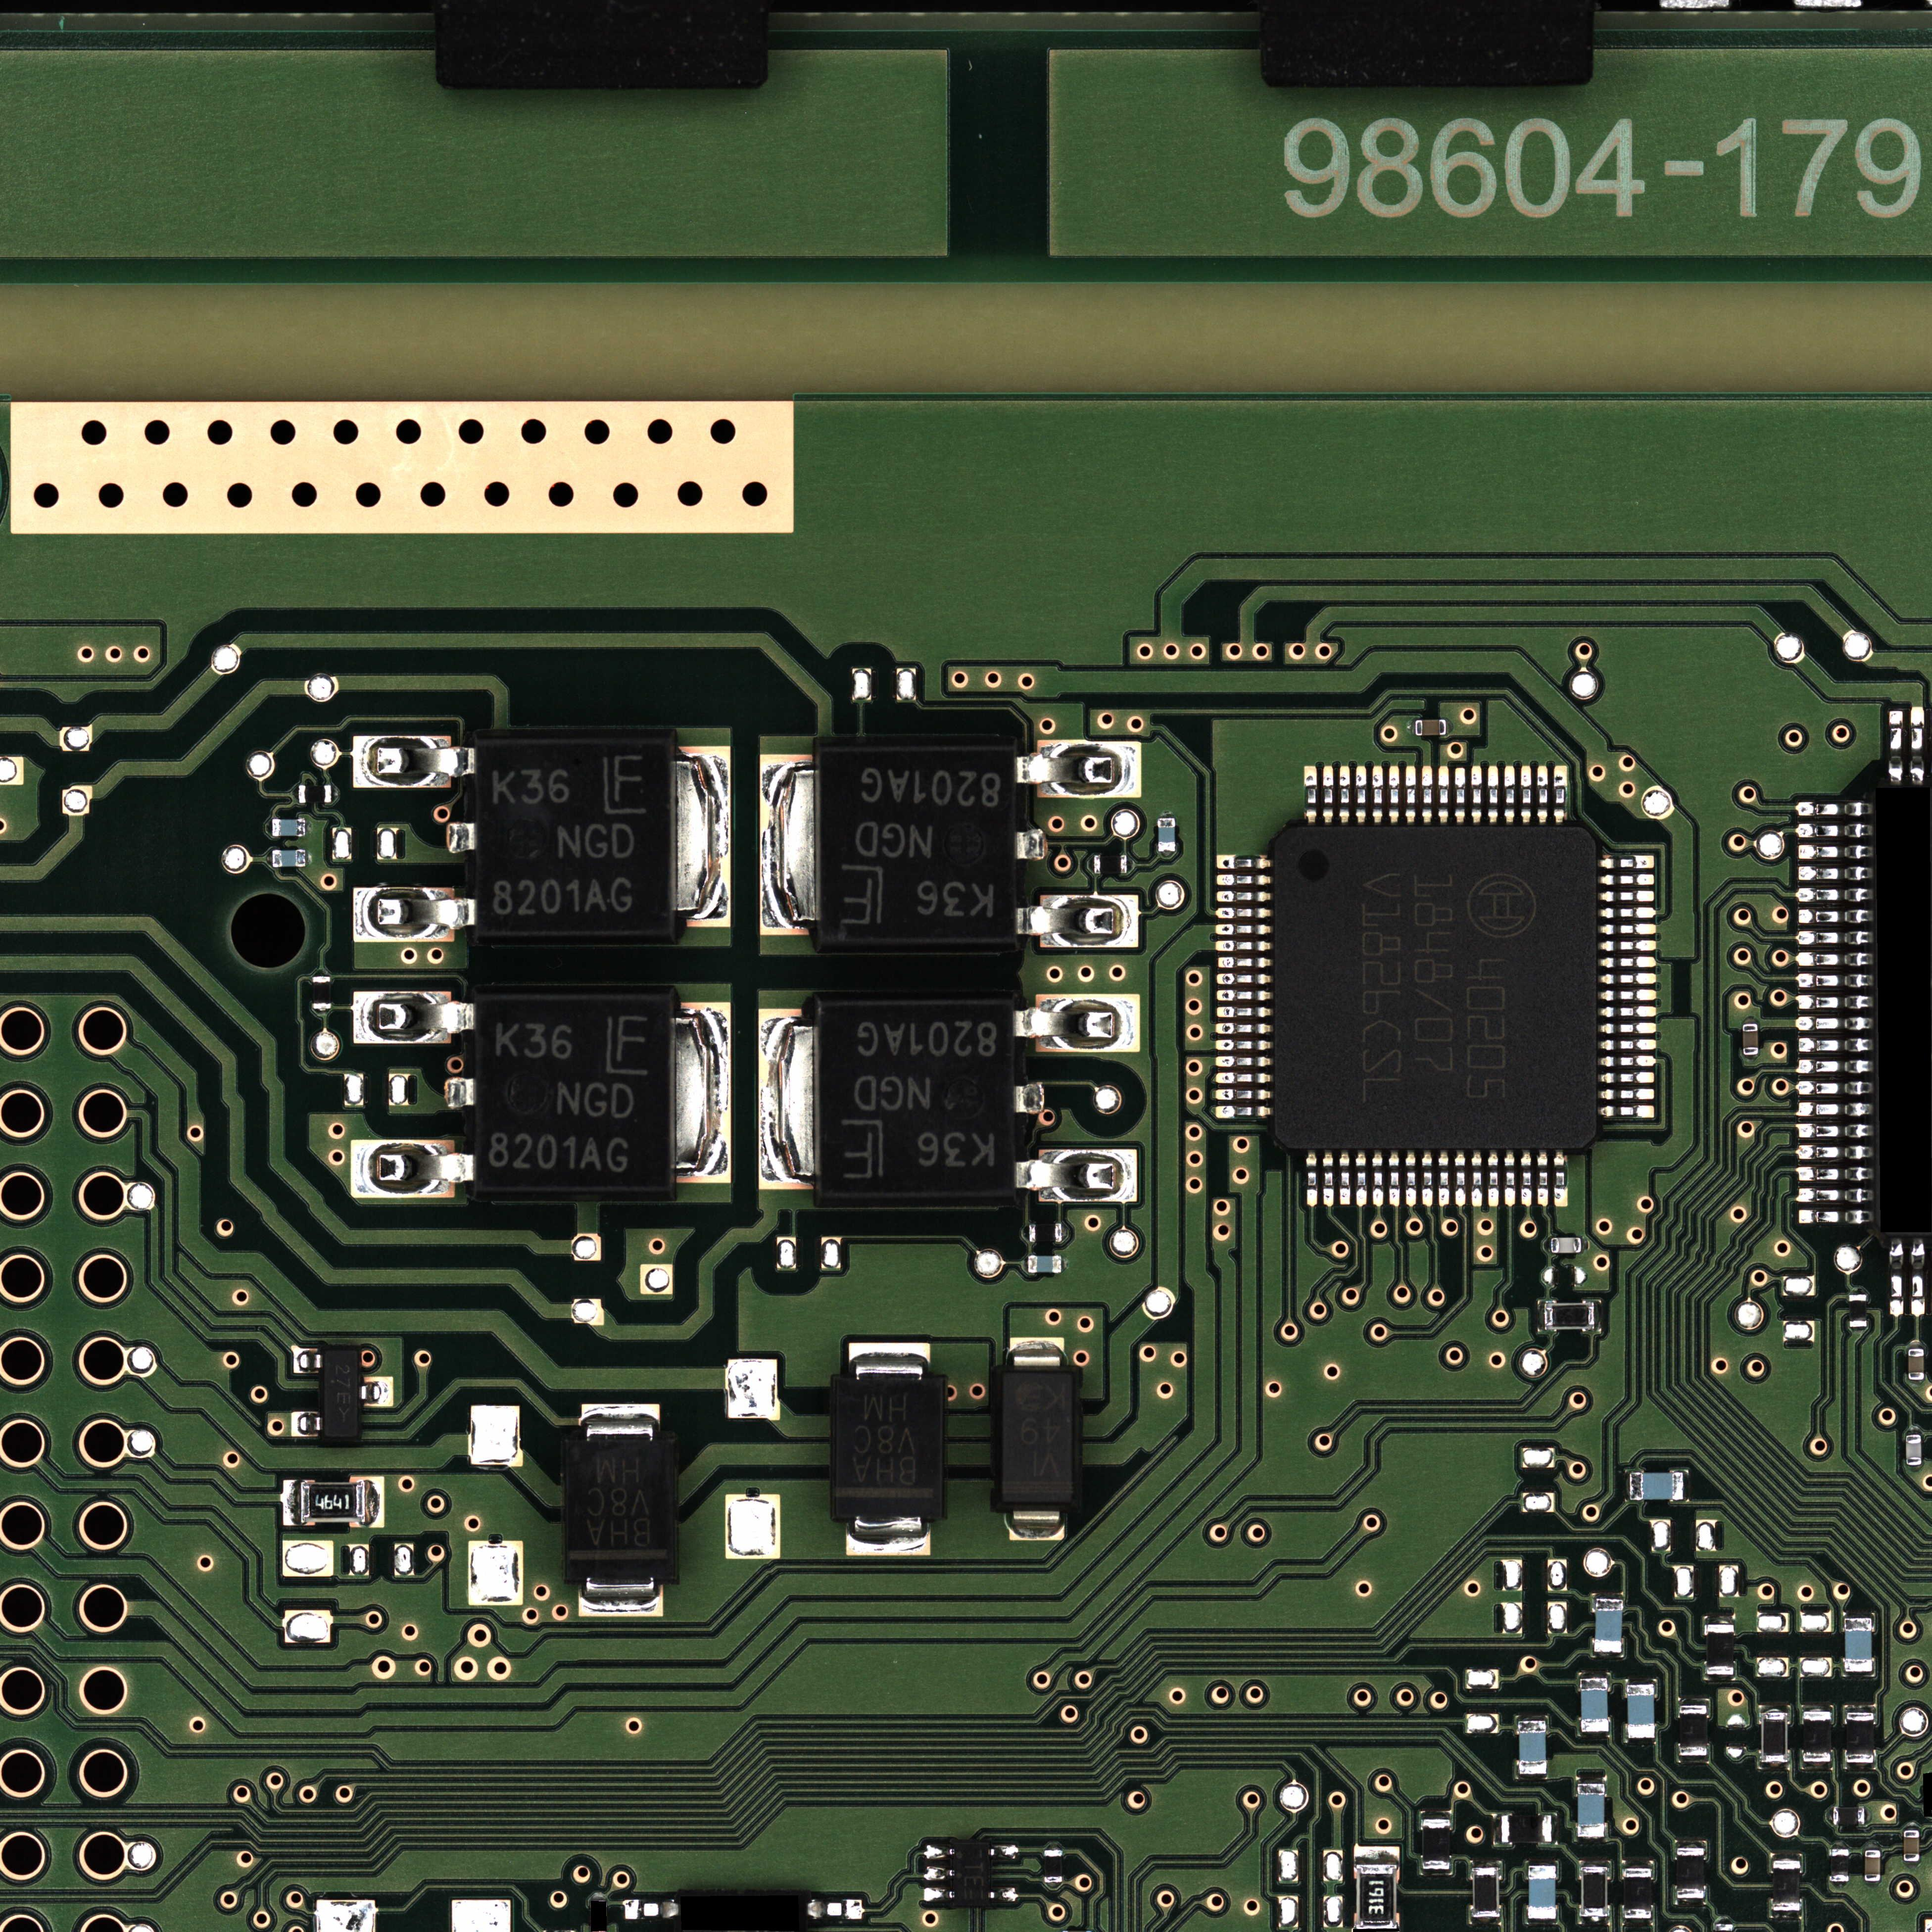Package: (1272, 824, 1599, 1152), (816, 745, 1016, 945), (474, 738, 669, 938), (476, 998, 671, 1192), (819, 1003, 1014, 1196), (833, 1376, 943, 1518), (566, 1438, 674, 1580), (1001, 1373, 1072, 1504), (322, 1348, 359, 1438), (301, 1483, 364, 1523), (1357, 1865, 1396, 1928), (954, 1842, 989, 1904), (1518, 1720, 1546, 1775), (1594, 1599, 1622, 1652), (1629, 1472, 1683, 1500), (1580, 1679, 1608, 1732), (1845, 1617, 1872, 1672), (1422, 1819, 1451, 1870), (1803, 1711, 1831, 1762), (1628, 1684, 1654, 1737), (1578, 1783, 1605, 1836), (1773, 1861, 1801, 1911), (1502, 1815, 1552, 1844), (1679, 1706, 1707, 1755), (1706, 1624, 1734, 1674), (1529, 1867, 1555, 1918), (1677, 1847, 1704, 1898), (1847, 1713, 1874, 1762), (1624, 1868, 1651, 1918), (1545, 1304, 1594, 1329), (1762, 1713, 1787, 1762), (1582, 1867, 1606, 1916), (1474, 1868, 1499, 1918), (1833, 1806, 1865, 1826), (272, 819, 306, 837), (1159, 817, 1177, 851), (272, 849, 306, 867), (1093, 856, 1127, 874), (1044, 1851, 1062, 1882), (299, 786, 331, 803), (1849, 1295, 1867, 1327), (1030, 1224, 1062, 1242), (1831, 1849, 1849, 1881), (313, 977, 331, 1008), (1028, 1256, 1062, 1272), (1904, 1829, 1920, 1861), (1550, 1237, 1582, 1253), (1909, 1348, 1925, 1380), (1415, 720, 1445, 736), (1905, 1435, 1921, 1465), (1865, 1851, 1881, 1881), (1743, 1024, 1759, 1054)
Solder: (757, 1008, 819, 1189), (669, 747, 731, 925), (672, 1003, 731, 1180), (759, 754, 816, 934), (1014, 993, 1139, 1053), (350, 1139, 474, 1198), (1017, 740, 1141, 798), (1017, 893, 1139, 948), (354, 886, 474, 941), (352, 734, 474, 787), (352, 991, 472, 1044), (1016, 1150, 1136, 1203), (846, 1518, 931, 1555), (579, 1582, 663, 1617), (849, 1341, 931, 1375), (580, 1403, 660, 1435), (1008, 1506, 1065, 1541), (1008, 1338, 1065, 1373), (1792, 842, 1874, 862), (1794, 823, 1875, 840), (1792, 886, 1874, 904), (1792, 909, 1874, 927), (1792, 929, 1874, 947), (1792, 952, 1874, 970), (1792, 973, 1874, 991), (1792, 993, 1874, 1010), (1792, 1014, 1874, 1031), (1792, 1058, 1874, 1076), (1792, 1079, 1874, 1097), (1794, 1123, 1875, 1141), (1794, 1145, 1875, 1162), (1794, 1208, 1875, 1226), (1794, 800, 1874, 817), (1794, 865, 1874, 883), (1794, 1037, 1874, 1054), (1794, 1100, 1874, 1118), (1794, 1166, 1874, 1184), (1794, 1187, 1874, 1205), (1909, 1237, 1927, 1316), (1888, 1238, 1905, 1316), (1909, 704, 1925, 786), (805, 1898, 865, 1920), (623, 1898, 681, 1920), (1888, 709, 1904, 784), (361, 1376, 393, 1407), (281, 1479, 301, 1527), (1014, 1083, 1044, 1113), (446, 823, 476, 853), (444, 1077, 474, 1108), (1016, 828, 1044, 860), (1353, 1845, 1399, 1865), (366, 1477, 384, 1527), (1553, 764, 1568, 824), (1215, 855, 1272, 869), (1599, 855, 1654, 869), (1553, 1152, 1568, 1207), (1599, 1039, 1658, 1051), (1599, 1023, 1658, 1035), (1599, 939, 1658, 952), (1304, 766, 1316, 824), (1599, 989, 1658, 1001), (1214, 1072, 1272, 1085), (1214, 1088, 1272, 1100), (1470, 766, 1483, 824), (1520, 766, 1532, 824), (292, 1412, 320, 1437), (294, 1348, 322, 1373), (1215, 1039, 1272, 1051), (1215, 1106, 1272, 1118), (1215, 973, 1272, 985), (1215, 939, 1272, 952), (1215, 1023, 1272, 1035), (1215, 890, 1272, 902), (1215, 989, 1272, 1001), (1599, 874, 1654, 886), (1599, 890, 1654, 902), (1599, 1088, 1654, 1100), (1504, 1152, 1516, 1207), (1599, 1106, 1654, 1118), (1454, 1152, 1467, 1207), (1658, 0, 1730, 9), (1598, 973, 1658, 984), (1537, 764, 1548, 824), (1599, 1056, 1658, 1067), (1599, 957, 1658, 968), (1599, 1007, 1658, 1017), (1389, 766, 1399, 824), (1355, 766, 1366, 824), (1488, 766, 1499, 824), (1422, 766, 1433, 824), (1405, 766, 1415, 824), (1339, 766, 1350, 824), (1373, 766, 1384, 824), (1504, 766, 1514, 824), (1438, 766, 1449, 824), (1323, 766, 1334, 824), (1215, 1056, 1272, 1067), (1599, 924, 1656, 934), (1599, 1072, 1656, 1083), (1215, 874, 1272, 885), (1599, 908, 1656, 918), (1215, 1007, 1272, 1017), (1215, 924, 1272, 934), (1215, 908, 1272, 918), (1454, 768, 1465, 824), (1217, 957, 1272, 968), (1472, 1152, 1483, 1207), (1488, 1152, 1499, 1207), (1405, 1152, 1415, 1207), (1438, 1152, 1449, 1207), (1389, 1152, 1399, 1207), (1537, 1152, 1548, 1207), (1522, 1152, 1532, 1207), (1373, 1152, 1384, 1207), (1323, 1152, 1334, 1207), (1422, 1152, 1433, 1207), (1357, 1152, 1368, 1207), (1307, 1152, 1318, 1207), (1339, 1152, 1350, 1205), (989, 1886, 1017, 1902), (924, 1867, 954, 1881), (925, 1845, 954, 1859), (991, 1844, 1017, 1858), (924, 1888, 954, 1900), (1536, 1300, 1545, 1332), (1704, 1615, 1736, 1624), (1493, 1813, 1502, 1845), (1594, 1300, 1603, 1330), (1421, 1810, 1451, 1819), (1771, 1911, 1801, 1920), (1760, 1704, 1790, 1713), (1580, 1916, 1610, 1925), (1622, 1859, 1652, 1868), (1675, 1898, 1706, 1907), (1525, 1858, 1559, 1865), (1624, 1737, 1658, 1744), (1842, 1672, 1875, 1679), (1771, 1852, 1803, 1859), (1470, 1859, 1502, 1867), (1844, 1706, 1875, 1713), (1704, 1674, 1736, 1681), (1677, 1755, 1709, 1762), (1801, 1704, 1833, 1711), (1470, 1918, 1502, 1925), (1580, 1859, 1610, 1867), (1576, 1776, 1606, 1783), (1626, 1677, 1656, 1684), (1679, 1698, 1709, 1706), (1594, 1592, 1624, 1599), (1683, 1470, 1690, 1500), (1675, 1840, 1706, 1847), (1576, 1836, 1606, 1844), (1516, 1714, 1546, 1721), (1845, 1762, 1875, 1769), (1622, 1470, 1629, 1500), (1803, 1762, 1833, 1769), (1760, 1762, 1790, 1769), (1622, 1918, 1652, 1925), (1844, 1610, 1874, 1617), (1552, 1813, 1559, 1844), (1580, 1672, 1608, 1679), (1516, 1775, 1548, 1780), (1580, 1732, 1612, 1737), (1421, 1870, 1453, 1875), (1592, 1652, 1624, 1658), (1527, 1920, 1559, 1925), (1407, 718, 1415, 736), (1849, 1286, 1868, 1293), (1062, 1223, 1069, 1242), (1902, 1861, 1921, 1868), (1157, 851, 1177, 858), (1044, 1842, 1063, 1849), (1157, 810, 1177, 817), (1062, 1254, 1069, 1274), (1714, 1916, 1734, 1923), (331, 786, 338, 803), (265, 819, 272, 837), (1831, 1842, 1849, 1849), (1445, 720, 1454, 734), (1044, 1882, 1062, 1890), (313, 970, 331, 977), (306, 849, 313, 867), (1023, 1224, 1030, 1242), (589, 1893, 607, 1900), (1865, 1881, 1881, 1888), (1909, 1341, 1925, 1348), (1865, 1844, 1881, 1851), (265, 851, 272, 867), (1865, 1808, 1872, 1824), (1743, 1017, 1759, 1024), (1743, 1054, 1759, 1062), (306, 819, 313, 835), (1829, 1882, 1849, 1888), (294, 784, 299, 803), (1849, 1327, 1868, 1332), (1023, 1254, 1028, 1274), (311, 1008, 331, 1014), (1127, 856, 1132, 872), (1905, 1430, 1921, 1435), (1909, 1380, 1925, 1385), (1828, 1808, 1833, 1824), (1088, 856, 1093, 872), (1907, 1465, 1923, 1470), (1904, 1824, 1920, 1829), (1582, 1237, 1587, 1253), (1545, 1238, 1550, 1253)
